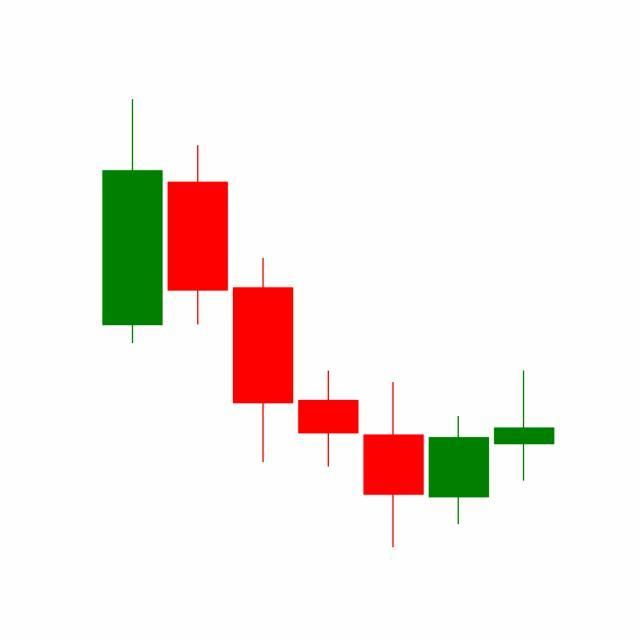Hikkake Pattern: (229, 254, 555, 549)
